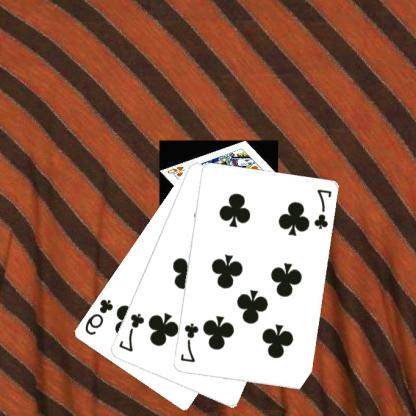6C: (83, 296, 116, 337)
7C: (117, 311, 147, 353), (312, 187, 334, 231), (179, 321, 201, 364)
